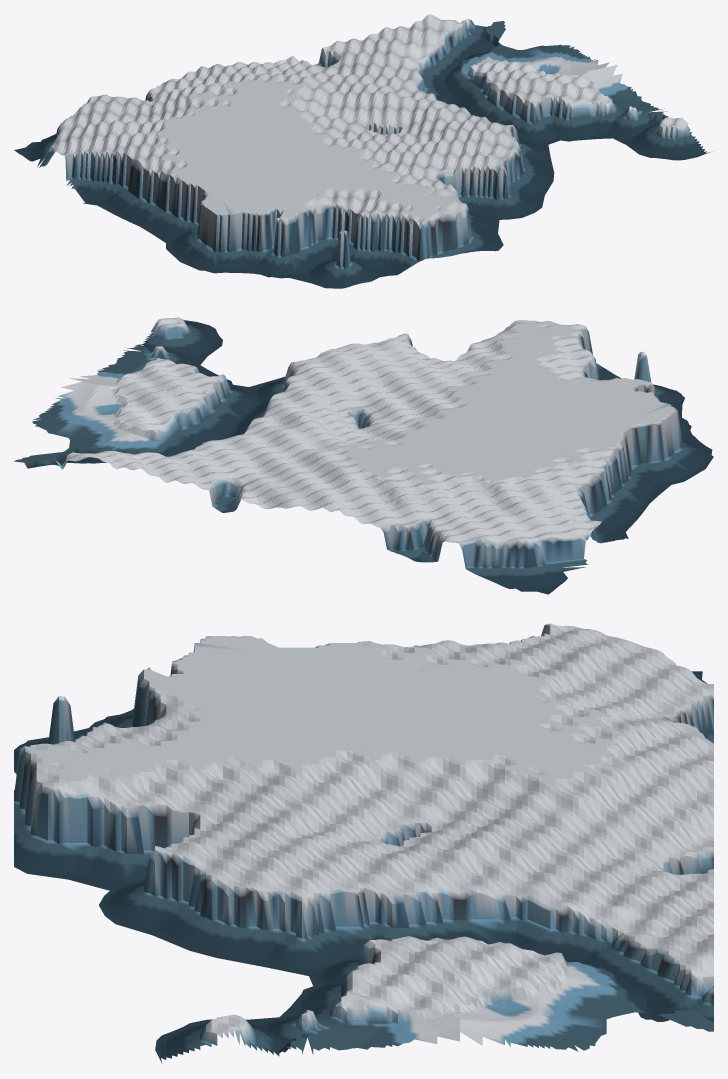
Rendered from frost_tile_x2z1.glb.
3 renders of one model, top to bottom at view 1: azimuth 30°, elevation 25°; view 2: azimuth 150°, elevation 25°; view 3: azimuth 270°, elevation 25°, orthographic. The views are drawn at different scales.
Visible parts, largest first — view 1: geometry_0; view 2: geometry_0; view 3: geometry_0.
Boxes of the visible parts, x1,y1,x2,y2 form: geometry_0: [14, 14, 710, 288]; geometry_0: [14, 317, 713, 594]; geometry_0: [14, 623, 713, 1063].
Bounding box in the file's own units: 1002 × 78 × 744.
